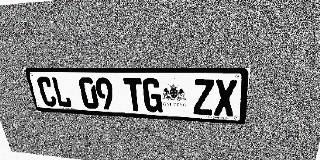0: (78, 77, 99, 109)
9: (94, 77, 116, 110)
C: (36, 77, 58, 107)
G: (142, 78, 163, 113)
L: (51, 77, 72, 108)
T: (123, 78, 144, 112)
X: (214, 79, 237, 116)
Z: (193, 79, 214, 115)
